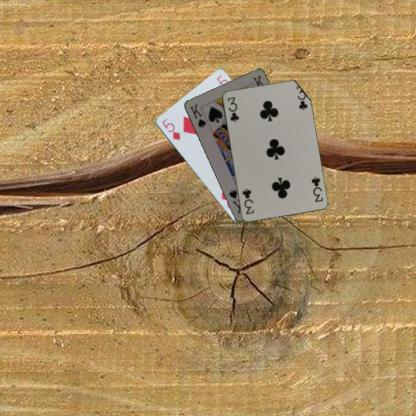3c: (308, 174, 324, 203), (225, 94, 240, 123)
5d: (159, 116, 181, 142)
Ks: (187, 101, 207, 129)
